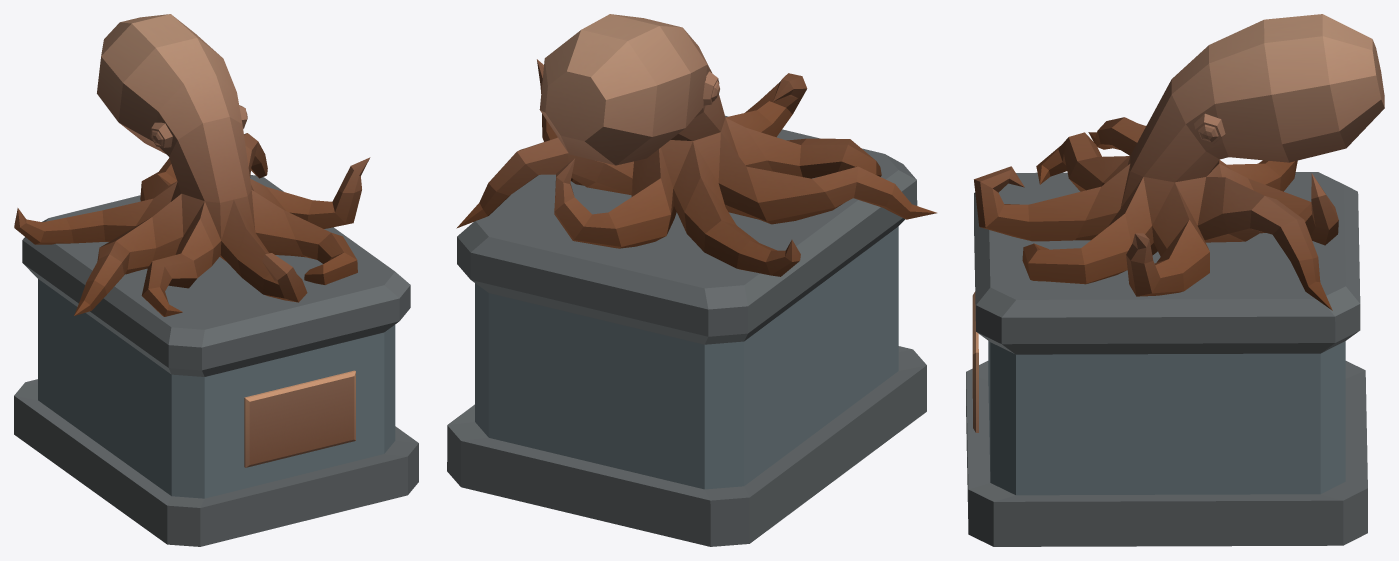
File: Environment_AnimalStatue_Octopuss.fbx
3 renders of one model, left to right at view 1: azimuth 30°, elevation 25°; view 2: azimuth 150°, elevation 25°; view 3: azimuth 270°, elevation 25°, orthographic. The views are drawn at different scales.
Parts seen in each view (by area): view 1: Environment_AnimalStatueStand_Octopuss, Environment_AnimalStatueAnimal_Octopuss, Environment_AnimalStatueStand_Plaque.004; view 2: Environment_AnimalStatueStand_Octopuss, Environment_AnimalStatueAnimal_Octopuss; view 3: Environment_AnimalStatueStand_Octopuss, Environment_AnimalStatueAnimal_Octopuss, Environment_AnimalStatueStand_Plaque.004.
Part boxes in pixels (<box>): Environment_AnimalStatueStand_Octopuss: <box>14,175,418,546</box>; Environment_AnimalStatueAnimal_Octopuss: <box>14,14,370,316</box>; Environment_AnimalStatueStand_Plaque.004: <box>244,370,355,467</box>; Environment_AnimalStatueStand_Octopuss: <box>447,115,926,546</box>; Environment_AnimalStatueAnimal_Octopuss: <box>456,14,936,276</box>; Environment_AnimalStatueStand_Octopuss: <box>966,172,1367,546</box>; Environment_AnimalStatueAnimal_Octopuss: <box>974,14,1384,310</box>; Environment_AnimalStatueStand_Plaque.004: <box>972,291,978,432</box>.
Bounding box in the file's own units: 282 × 331 × 279.
